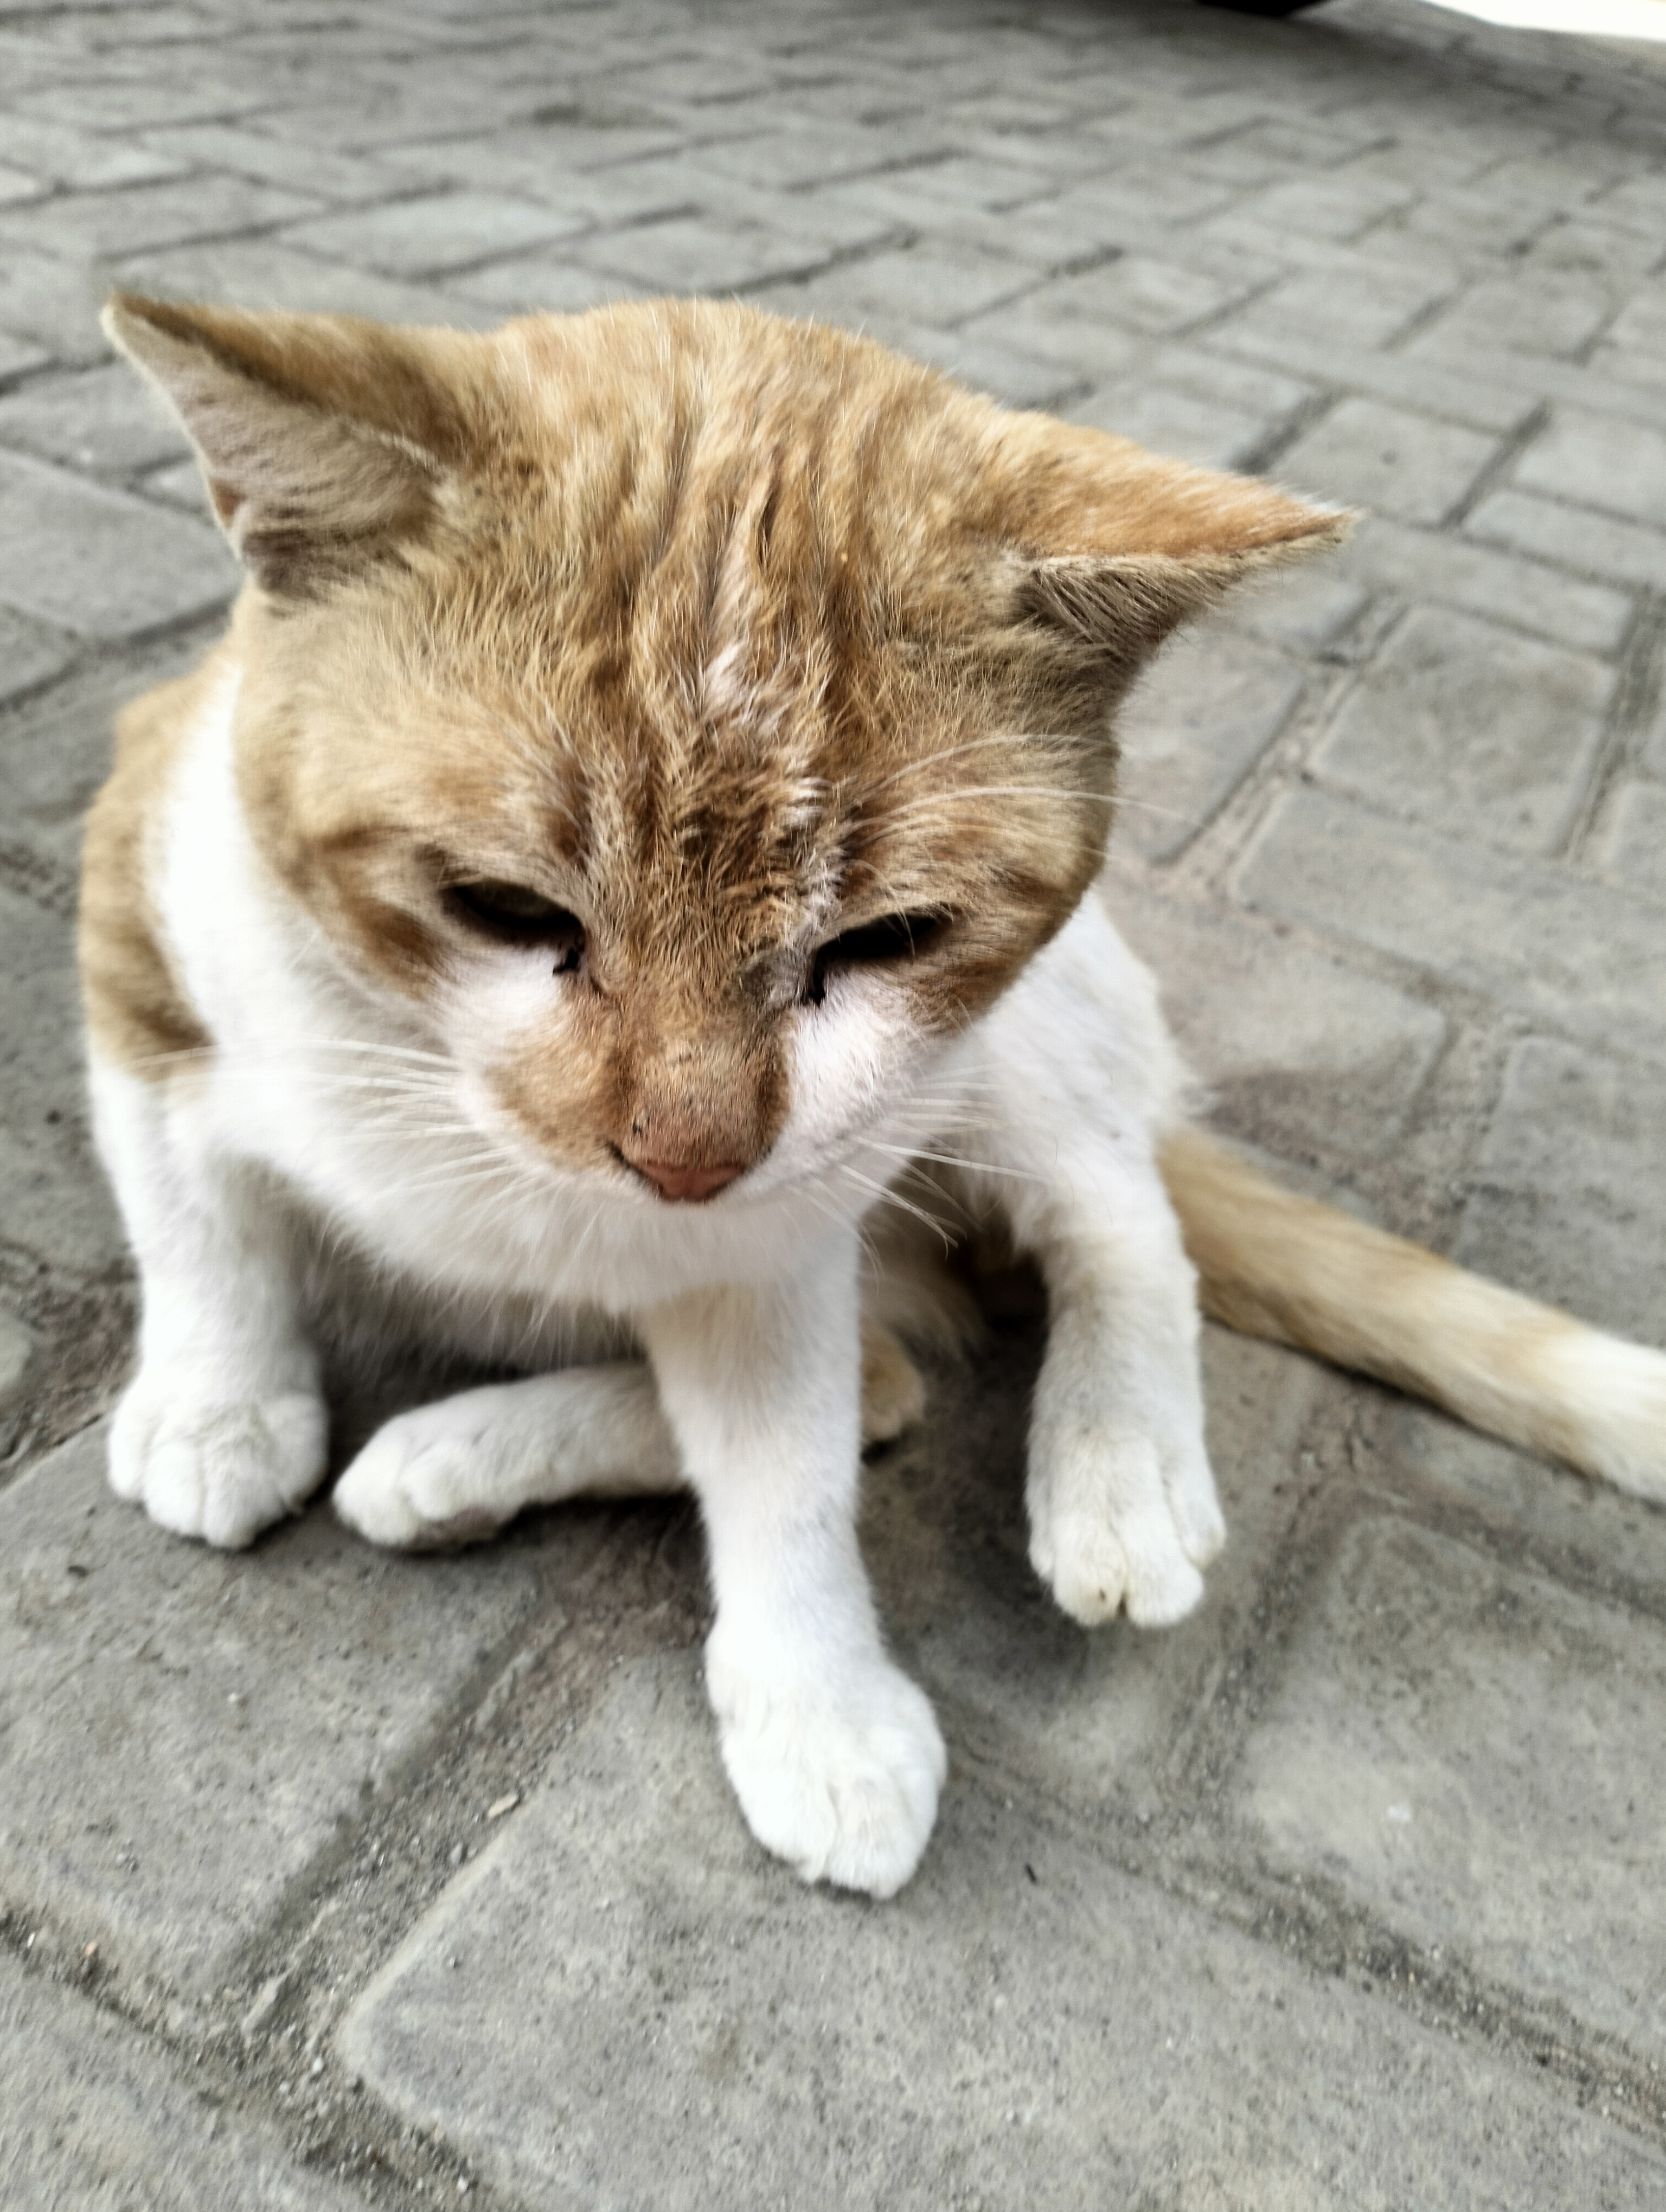oyen: (96, 260, 1363, 1257)
